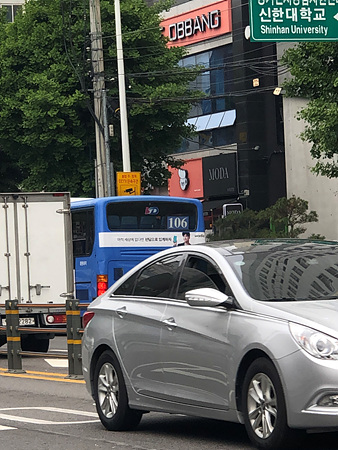bnum: (167, 214, 188, 229)
